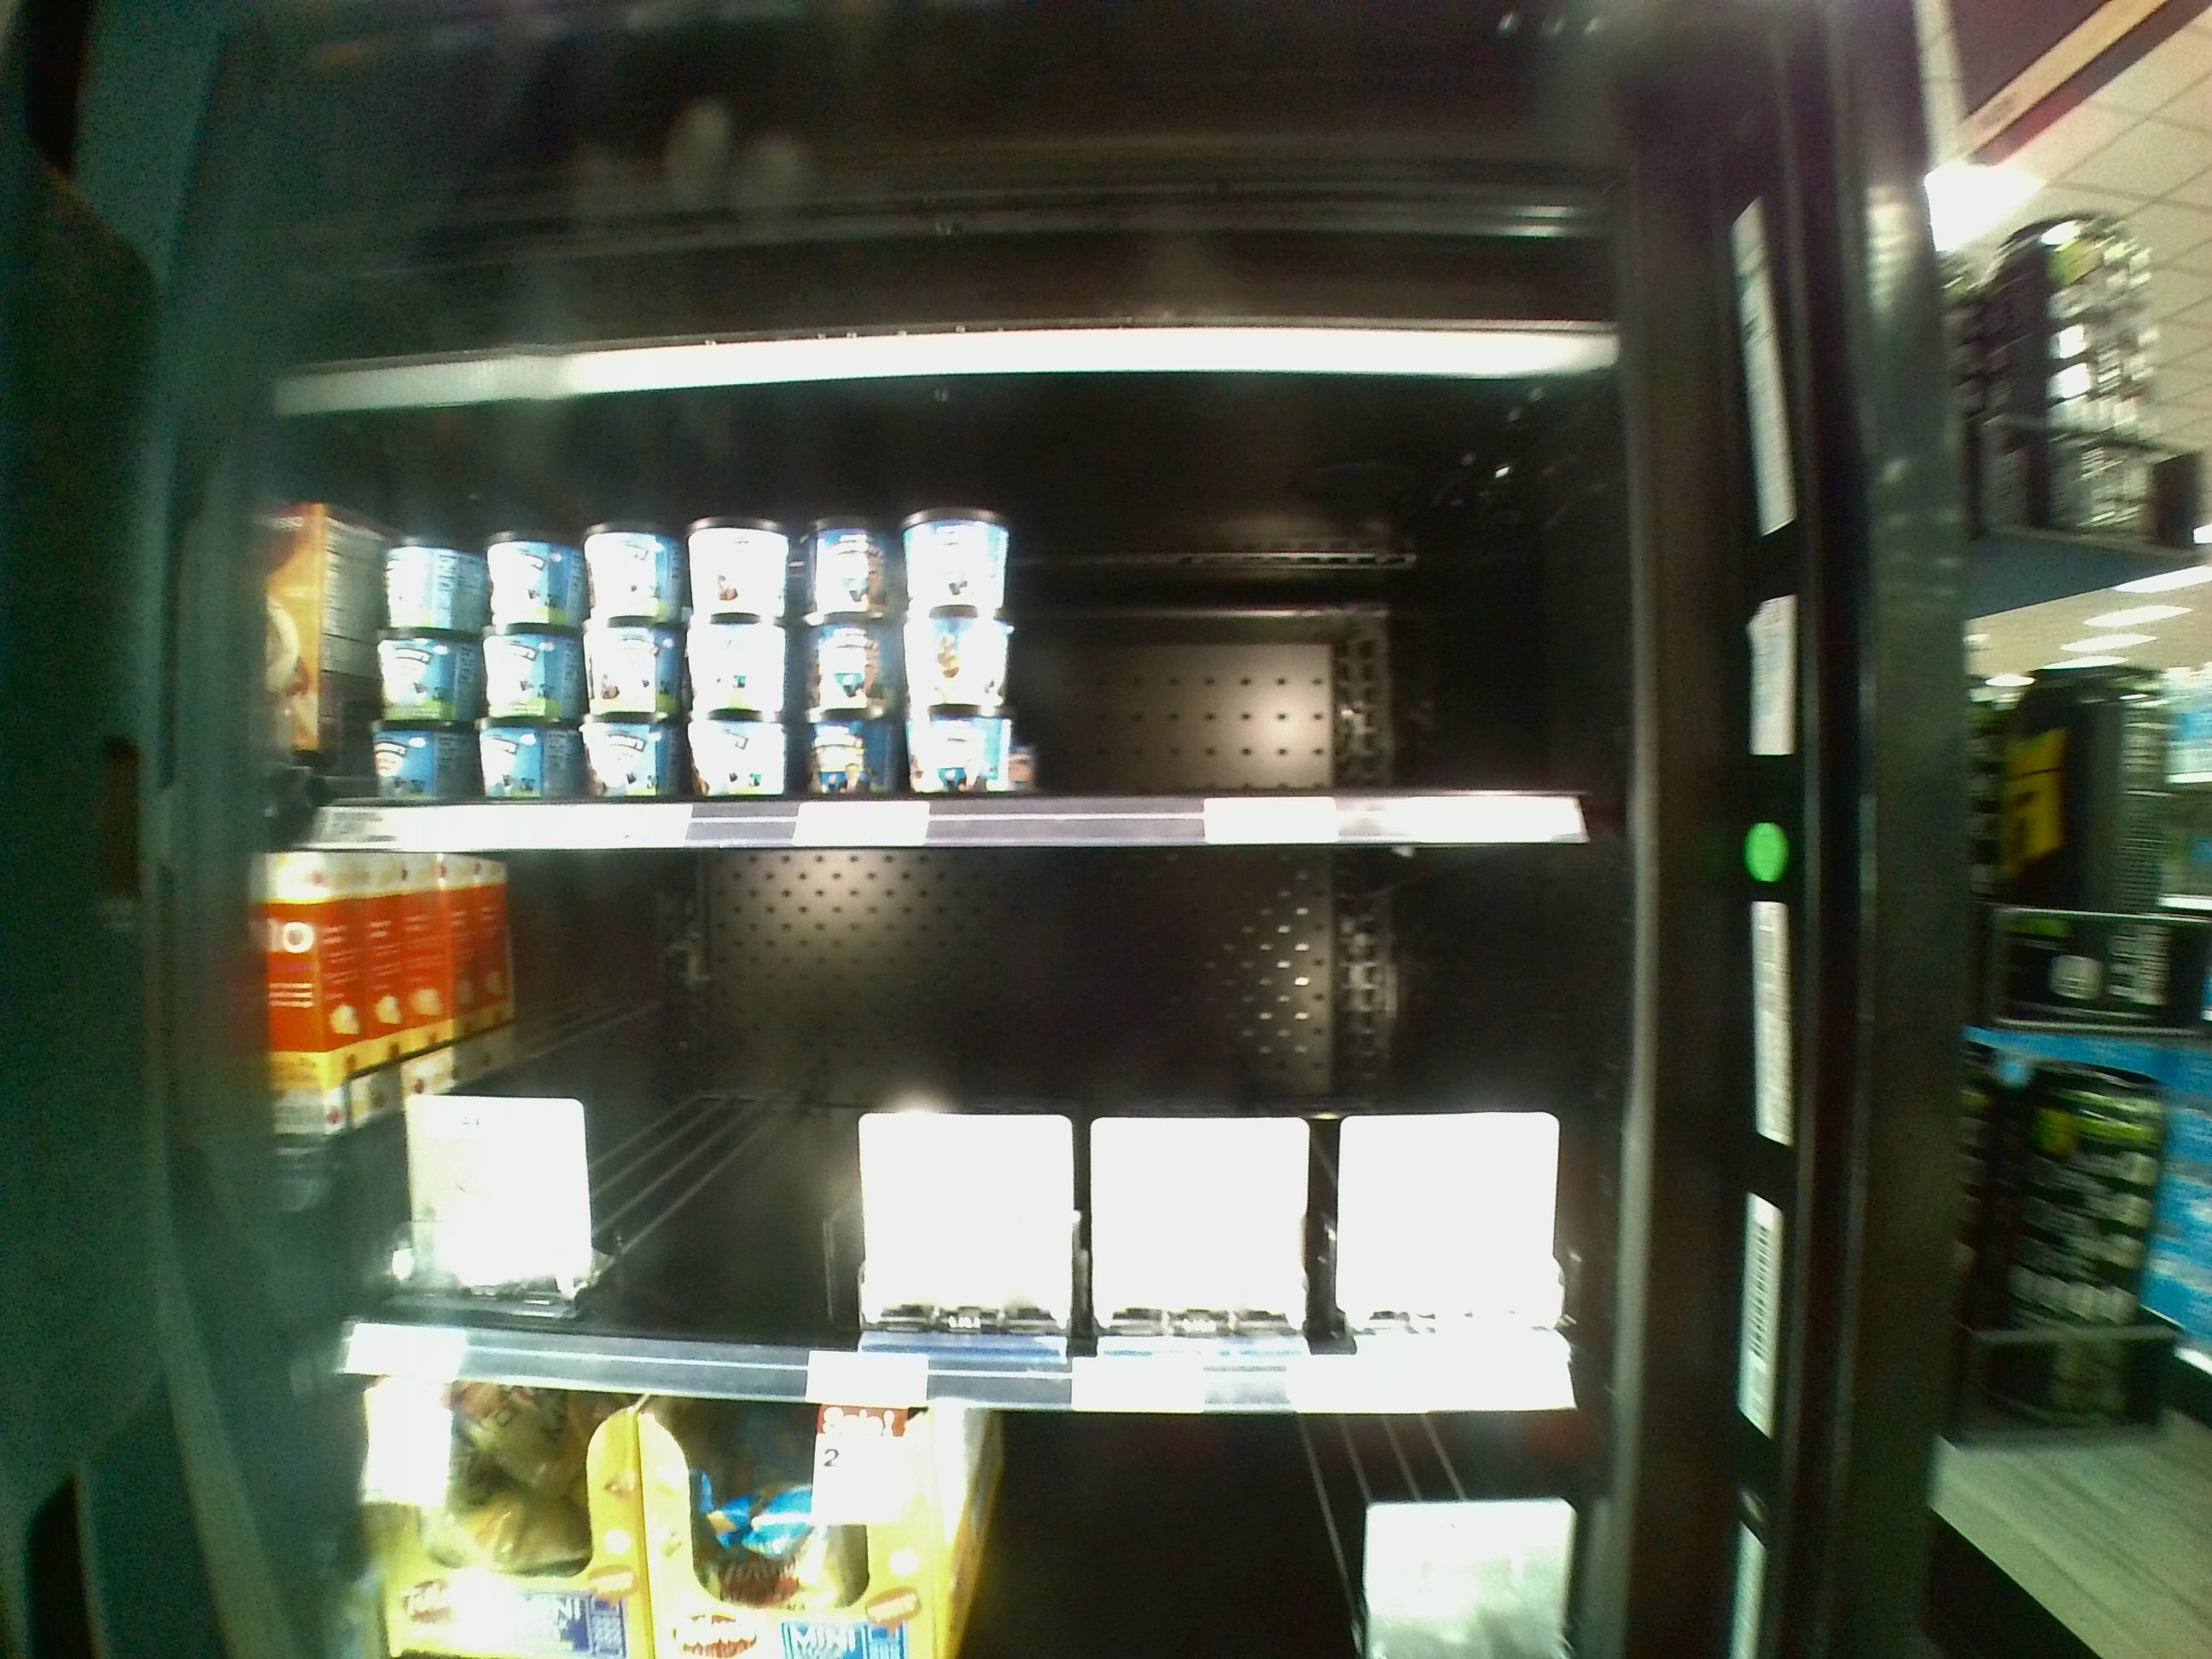shelf: (319, 849, 1615, 1399), (277, 380, 1604, 836)
